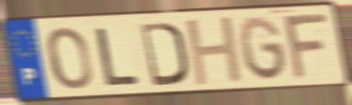D: (138, 20, 189, 88)
F: (282, 11, 331, 83)
G: (237, 14, 290, 83)
H: (183, 14, 247, 89)
L: (94, 25, 142, 88)
O: (45, 25, 95, 92)
